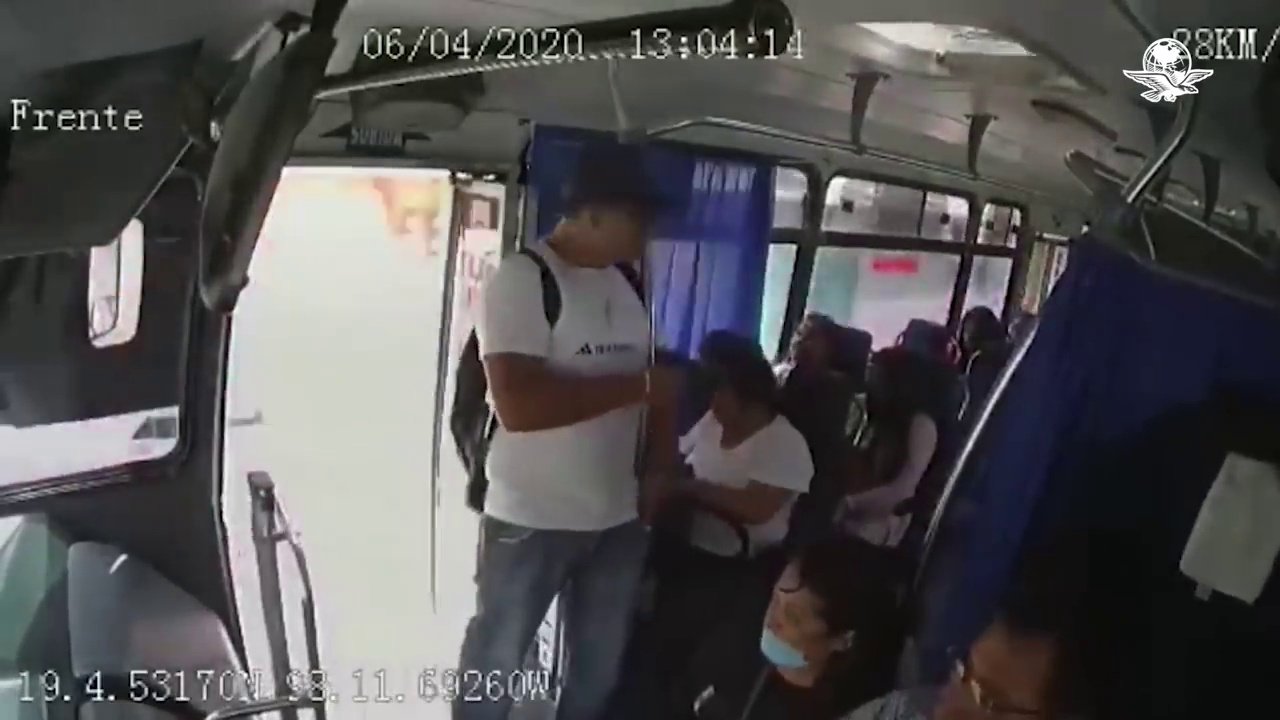pistol: (649, 344, 723, 411)
